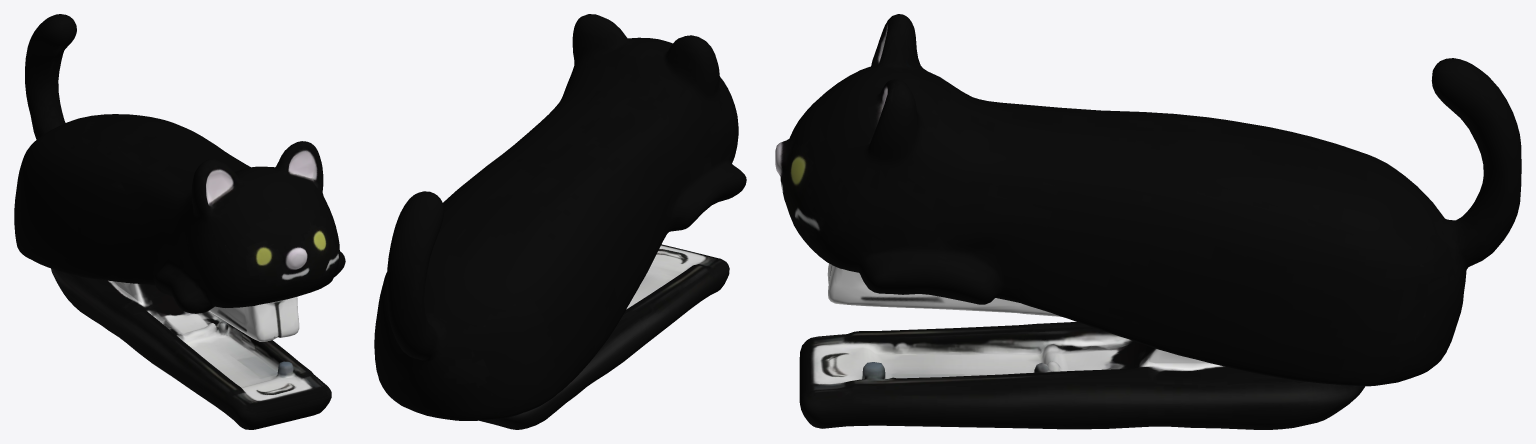
The model's file is stitcher_trellis_textured.glb.
3 renders of one model, left to right at view 1: azimuth 30°, elevation 25°; view 2: azimuth 150°, elevation 25°; view 3: azimuth 270°, elevation 25°, orthographic. The views are drawn at different scales.
Visible parts, largest first — view 1: world; view 2: world; view 3: world.
Part boxes in pixels (left/top/right/bottom): world: left=14, top=14, right=345, bottom=429; world: left=374, top=14, right=746, bottom=429; world: left=775, top=14, right=1521, bottom=429.
Bounding box in the file's own units: 0.3675 × 0.5285 × 1.
Materials: 1 (1 with a texture image).
